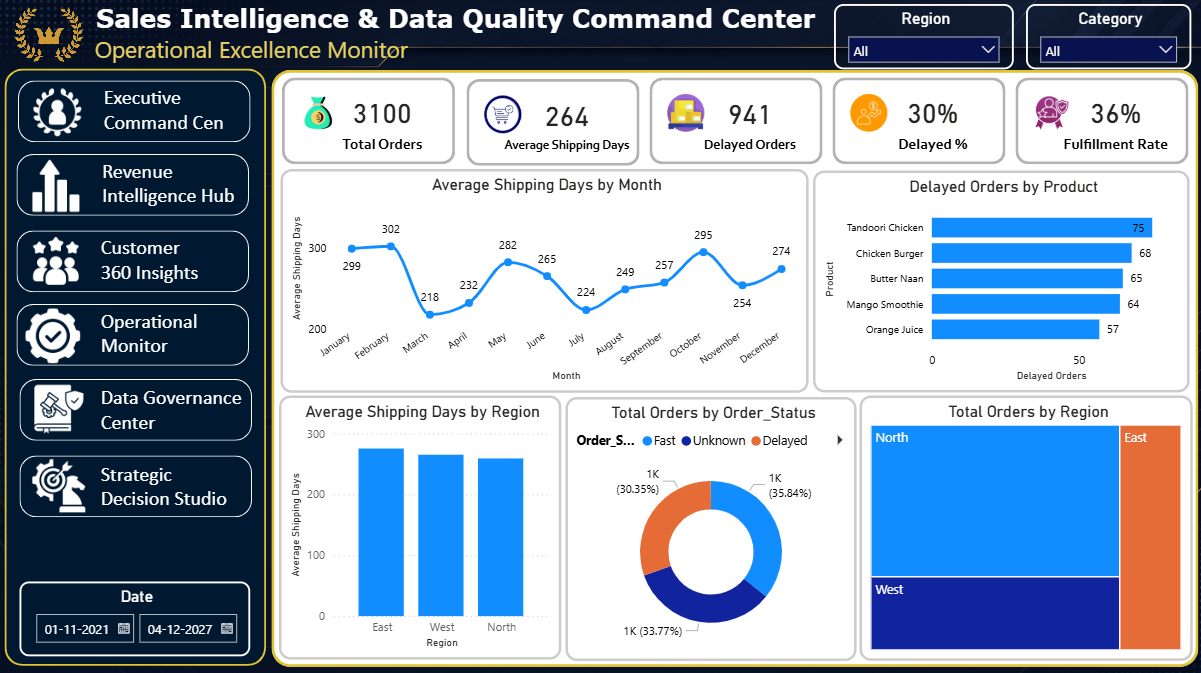

The dashboard page shown, as its layout file describes it:
{"tool":"powerbi","page":{"name":"Operational Excellence Monitor","canvas":[1280,720],"ordinal":3},"visuals":[{"type":"group","id":"g1","title":"Base","box":[0,0,1280.7,708.7],"z":0},{"type":"textbox","box":[0,0,1280.7,80.9],"z":0,"group":"g17"},{"type":"shape","box":[7.7,75.1,277.3,633.6],"z":0,"group":"g1"},{"type":"shape","box":[291.1,76.3,983,633.1],"z":0,"group":"g2"},{"type":"shape","box":[302.2,84,183.7,92],"z":0,"group":"g10"},{"type":"shape","box":[691.9,84.4,183.7,92],"z":0,"group":"g8"},{"type":"shape","box":[886.3,84.4,183.7,92],"z":0,"group":"g5"},{"type":"shape","box":[1080.6,84.4,183.7,92],"z":0,"group":"g3"},{"type":"shape","box":[497.8,85.7,183.7,92],"z":0,"group":"g9"},{"type":"textbox","box":[108.1,87,161.8,67.4],"z":0,"group":"g16"},{"type":"textbox","box":[107.5,165.3,161.8,67.4],"z":0,"group":"g15"},{"type":"textbox","box":[105.5,246.2,148.3,65.5],"z":0,"group":"g14"},{"type":"textbox","box":[105.5,325.5,161.8,65.5],"z":0,"group":"g13"},{"type":"textbox","box":[105.3,405,167.5,65.5],"z":0,"group":"g12"},{"type":"textbox","box":[105.5,486.3,161.8,63.6],"z":0,"group":"g11"},{"type":"donutChart","fields":{"Y":["Measure.Total Orders"],"Category":["Fact_Sales.Order_Status"]},"box":[602.9,423.1,308.6,279.9],"z":577,"group":"g4"},{"type":"treemap","fields":{"Details":["Dim_Location.Region"],"Values":["Measure.Total Orders"]},"box":[914.7,421.8,353.1,281.5],"z":585,"group":"g4"},{"type":"clusteredColumnChart","fields":{"Y":["Measure.Average Shipping Days"],"Category":["Dim_Location.Region"]},"box":[299.1,421.5,299,279.9],"z":593,"group":"g4"},{"type":"clusteredBarChart","fields":{"Category":["Dim_Product.Product"],"Y":["Measure.Delayed Orders"]},"box":[865.8,183.3,399.2,235.4],"z":625,"group":"g6"},{"type":"lineChart","fields":{"Category":["Dim_Date.Date.Variation.Date Hierarchy.Month"],"Y":["Measure.Average Shipping Days"]},"box":[301.1,181.7,559.9,237],"z":750,"group":"g6"},{"type":"image","box":[15.4,9.6,77,59.7],"z":1000,"group":"g17"},{"type":"group","id":"g2","title":"Center","box":[291.1,76.3,983,633.1],"z":1000},{"type":"card","fields":{"Values":["Measure.Total Orders"]},"box":[331.1,84,154.8,92],"z":1000,"group":"g10"},{"type":"card","fields":{"Values":["Measure.Delayed Orders"]},"box":[720.8,84.4,154.8,92],"z":1000,"group":"g8"},{"type":"card","fields":{"Values":["Measure.Delayed %"]},"box":[915.2,84.4,154.8,92],"z":1000,"group":"g5"},{"type":"group","id":"g3","title":"Card-5","box":[1080.6,84.4,182.4,91.8],"z":1000,"group":"g7"},{"type":"card","fields":{"Values":["Measure.Fulfillment Rate"]},"box":[1109.5,84.4,154.8,92],"z":1000,"group":"g3"},{"type":"card","fields":{"Values":["Measure.Average Shipping Days"]},"box":[526.7,85.7,154.8,92],"z":1000,"group":"g9"},{"type":"shape","box":[21.9,87.4,246.5,65.5],"z":1000,"group":"g16"},{"type":"shape","box":[21.3,165.7,246.5,65.5],"z":1000,"group":"g15"},{"type":"shape","box":[21.3,245.9,246.5,65.5],"z":1000,"group":"g14"},{"type":"shape","box":[21.3,324.9,246.5,65.5],"z":1000,"group":"g13"},{"type":"shape","box":[23.6,404.1,246.5,65.5],"z":1000,"group":"g12"},{"type":"group","id":"g4","title":"Group 1","box":[299.1,421.5,968.7,281.9],"z":1000,"group":"g2"},{"type":"shape","box":[23.6,484.4,246.5,65.5],"z":1000,"group":"g11"},{"type":"group","id":"g5","title":"Card-4","box":[886.3,84.4,182.4,91.8],"z":2000,"group":"g7"},{"type":"image","box":[35.4,91.3,57.8,57.8],"z":2000,"group":"g16"},{"type":"image","box":[319.2,102.3,41.9,39.8],"z":2000,"group":"g10"},{"type":"image","box":[708.9,102.7,41.9,39.8],"z":2000,"group":"g8"},{"type":"image","box":[903.3,102.7,41.9,39.8],"z":2000,"group":"g5"},{"type":"image","box":[1097.6,102.7,41.9,39.8],"z":2000,"group":"g3"},{"type":"image","box":[514.8,104,41.9,39.8],"z":2000,"group":"g9"},{"type":"image","box":[34.8,169.6,57.8,57.8],"z":2000,"group":"g15"},{"type":"group","id":"g6","title":"Group 2","box":[301.1,181.7,963.9,237],"z":2000,"group":"g2"},{"type":"image","box":[34.8,249.8,57.8,57.8],"z":2000,"group":"g14"},{"type":"image","box":[30.4,329.3,57.8,57.8],"z":2000,"group":"g13"},{"type":"image","box":[37.1,408,57.8,57.8],"z":2000,"group":"g12"},{"type":"image","box":[37.1,488.3,57.8,57.8],"z":2000,"group":"g11"},{"type":"group","id":"g7","title":"Group 3","box":[302.2,84,960.7,93.6],"z":3000,"group":"g2"},{"type":"group","id":"g8","title":"Card-3","box":[691.9,84.4,182.4,91.8],"z":3000,"group":"g7"},{"type":"group","id":"g9","title":"Card-2","box":[497.8,85.7,182.4,91.8],"z":4000,"group":"g7"},{"type":"group","id":"g10","title":"Card-1","box":[302.2,84,183.1,91.4],"z":5000,"group":"g7"},{"type":"slicer","title":"Date","fields":{"Values":["Dim_Date.Date"]},"box":[23.4,618.7,245,79.5],"z":5000,"group":"g1"},{"type":"group","id":"g11","title":"Button-6","box":[23.6,484.4,246.5,65.5],"z":9000,"group":"g1"},{"type":"group","id":"g12","title":"Button-5","box":[23.6,404.1,249.3,66.4],"z":9062,"group":"g1"},{"type":"group","id":"g13","title":"Button-4","box":[21.3,324.9,246.5,66.1],"z":9125,"group":"g1"},{"type":"group","id":"g14","title":"Button-3","box":[21.3,245.9,246.5,65.8],"z":9250,"group":"g1"},{"type":"group","id":"g15","title":"Button-2","box":[21.3,165.3,247.9,67.4],"z":9500,"group":"g1"},{"type":"group","id":"g16","title":"Button-1","box":[21.9,87,248.4,67.4],"z":10000,"group":"g1"},{"type":"slicer","title":"Category","fields":{"Values":["Dim_Product.Category"]},"box":[1091.9,5.8,175.2,69.3],"z":10500,"group":"g1"},{"type":"slicer","title":"Region","fields":{"Values":["Dim_Location.Region"]},"box":[887.8,5.8,190.7,69.3],"z":11000,"group":"g1"},{"type":"group","id":"g17","title":"Header","box":[0,0,1280.7,80.9],"z":11500,"group":"g1"}]}

Visuals, with their boxes in screenshot pixels (x1, y1, x2, y2), scaled from the page's 1280x720 canvas onto the 1201x673 screenshot:
"Base" group: [0,0,1200,662]
textbox: [0,0,1200,76]
shape: [7,70,267,662]
shape: [273,71,1195,663]
shape: [284,79,456,165]
shape: [649,79,822,165]
shape: [832,79,1004,165]
shape: [1014,79,1186,165]
shape: [467,80,639,166]
textbox: [101,81,253,144]
textbox: [101,155,253,218]
textbox: [99,230,238,291]
textbox: [99,304,251,365]
textbox: [99,379,256,440]
textbox: [99,455,251,514]
donutChart - Measure.Total Orders x Fact_Sales.Order_Status: [566,395,855,657]
treemap - Dim_Location.Region x Measure.Total Orders: [858,394,1190,657]
clusteredColumnChart - Measure.Average Shipping Days x Dim_Location.Region: [281,394,561,656]
clusteredBarChart - Dim_Product.Product x Measure.Delayed Orders: [812,171,1187,391]
lineChart - Dim_Date.Date.Variation.Date Hierarchy.Month x Measure.Average Shipping Days: [283,170,808,391]
image: [14,9,87,65]
"Center" group: [273,71,1195,663]
card - Measure.Total Orders: [311,79,456,165]
card - Measure.Delayed Orders: [676,79,822,165]
card - Measure.Delayed %: [859,79,1004,165]
"Card-5" group: [1014,79,1185,165]
card - Measure.Fulfillment Rate: [1041,79,1186,165]
card - Measure.Average Shipping Days: [494,80,639,166]
shape: [21,82,252,143]
shape: [20,155,251,216]
shape: [20,230,251,291]
shape: [20,304,251,365]
shape: [22,378,253,439]
"Group 1" group: [281,394,1190,657]
shape: [22,453,253,514]
"Card-4" group: [832,79,1003,165]
image: [33,85,87,139]
image: [299,96,339,133]
image: [665,96,704,133]
image: [848,96,887,133]
image: [1030,96,1069,133]
image: [483,97,522,134]
image: [33,159,87,213]
"Group 2" group: [283,170,1187,391]
image: [33,233,87,288]
image: [29,308,83,362]
image: [35,381,89,435]
image: [35,456,89,510]
"Group 3" group: [284,79,1185,166]
"Card-3" group: [649,79,820,165]
"Card-2" group: [467,80,638,166]
"Card-1" group: [284,79,455,164]
"Date" slicer: [22,578,252,653]
"Button-6" group: [22,453,253,514]
"Button-5" group: [22,378,256,440]
"Button-4" group: [20,304,251,365]
"Button-3" group: [20,230,251,291]
"Button-2" group: [20,155,253,218]
"Button-1" group: [21,81,254,144]
"Category" slicer: [1025,5,1189,70]
"Region" slicer: [833,5,1012,70]
"Header" group: [0,0,1200,76]
